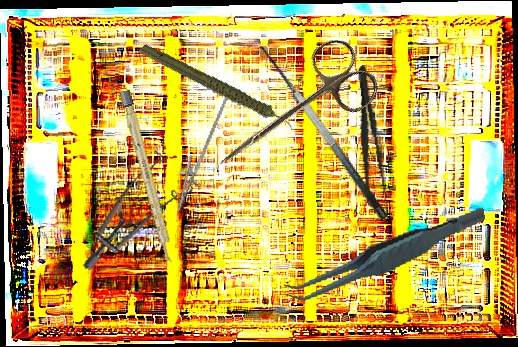Dressing Forceps: (349, 64, 393, 218)
Handpiece: (137, 15, 296, 163)
Iris Scissors: (199, 30, 386, 198)
Needle Holder: (167, 89, 229, 217)
Scalpel Handle: (119, 89, 176, 264)
Spatula Surgical: (246, 39, 390, 232)
Speculum: (82, 139, 204, 292)
Tissue Forceps: (276, 206, 494, 304)
